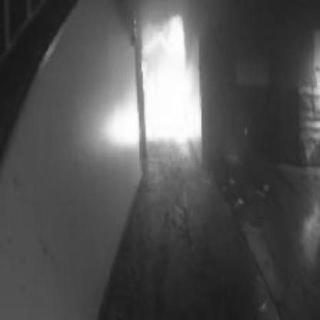Fire: (144, 20, 202, 146)
